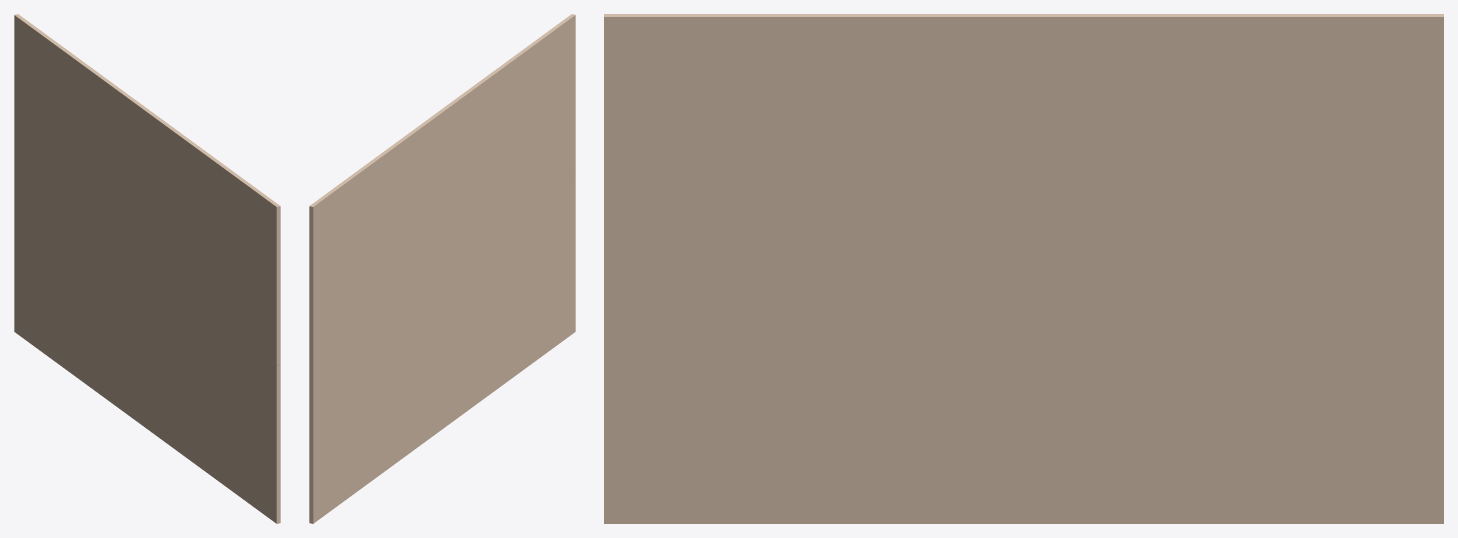
The model's file is Wall.fbx.
3 views of the same model, side by side, from view 1: azimuth 30°, elevation 25°; view 2: azimuth 150°, elevation 25°; view 3: azimuth 270°, elevation 25° (orthographic). The views are drawn at different scales.
Visible parts, largest first — view 1: Wall; view 2: Wall; view 3: Wall.
Boxes of the visible parts, x1,y1,x2,y2 form: Wall: (14,14,280,523); Wall: (309,14,575,523); Wall: (604,14,1443,523).
Bounding box in the file's own units: 2.74 × 215 × 323.
